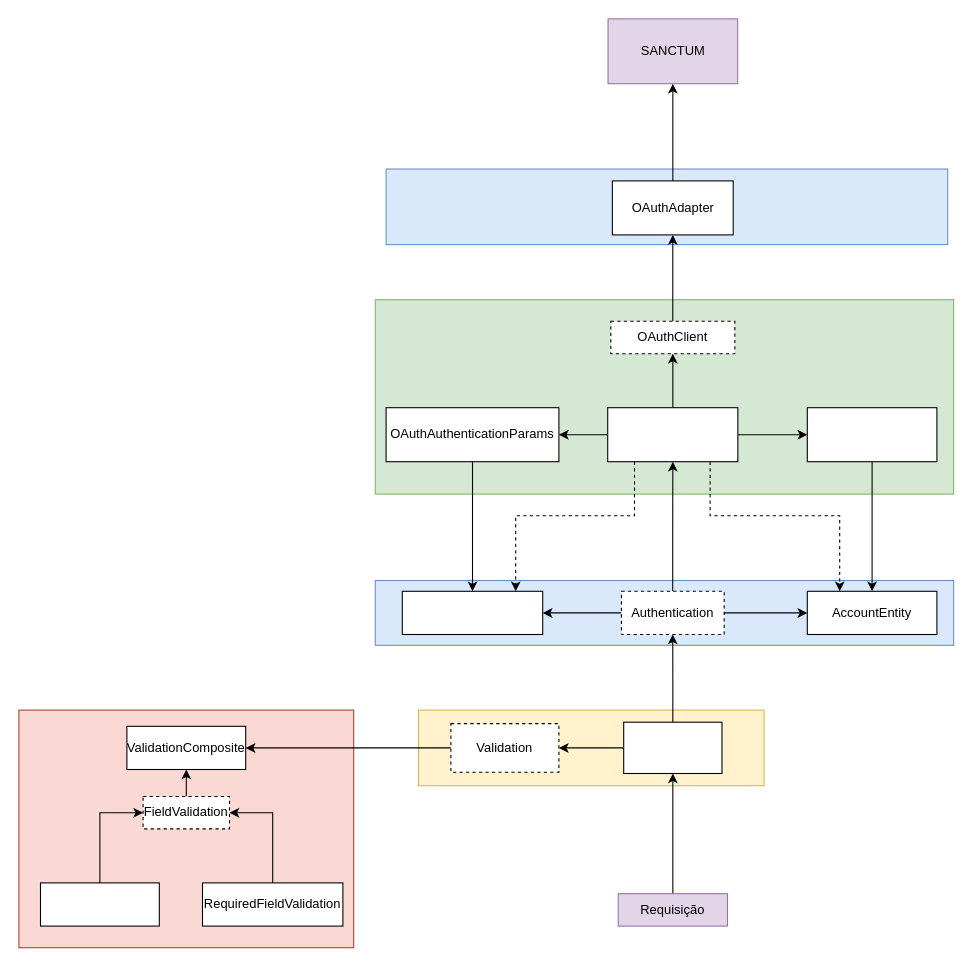
The diagram is 973 pixels wide and 967 high, and some of its shapes have lost their labels. Here are the shapes that lost their labels. From the top down, the centre of each, then its label:
[672,434]: OAuthAuthentication
[871,434]: OAuthAccountModel
[472,612]: AuthenticationParams
[672,747]: AuthPresenter
[99,904]: EmailValidation
